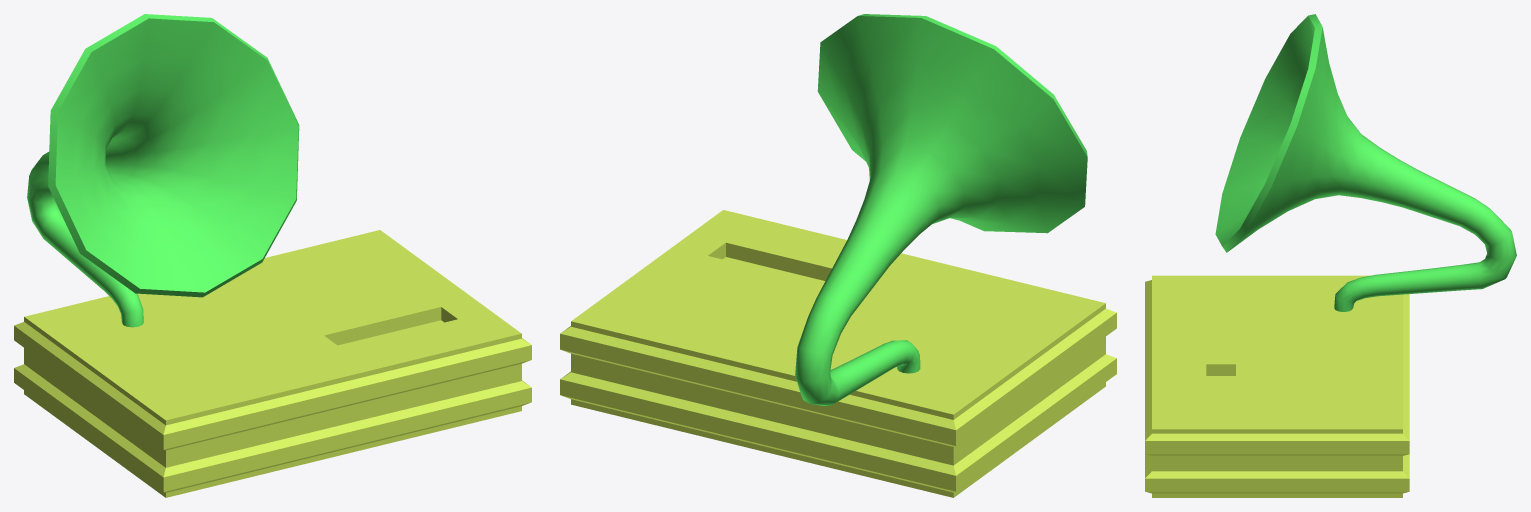
File: SM_Gramophone.FBX
3 renders of one model, left to right at view 1: azimuth 30°, elevation 25°; view 2: azimuth 150°, elevation 25°; view 3: azimuth 270°, elevation 25°, orthographic. The views are drawn at different scales.
Visible parts, largest first — view 1: SM_Gramophone; view 2: SM_Gramophone; view 3: SM_Gramophone.
Boxes of the visible parts, x1,y1,x2,y2 form: SM_Gramophone: [14, 14, 531, 497]; SM_Gramophone: [560, 14, 1116, 497]; SM_Gramophone: [1145, 14, 1516, 497].
Bounding box in the file's own units: 50.99 × 46.66 × 44.95.
